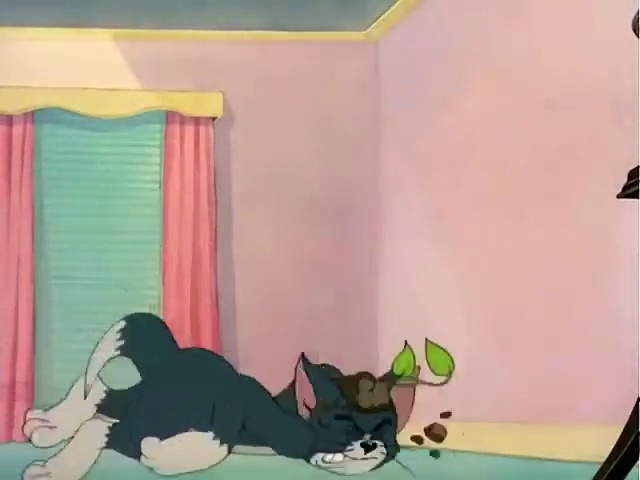tom: (40, 283, 456, 478)
